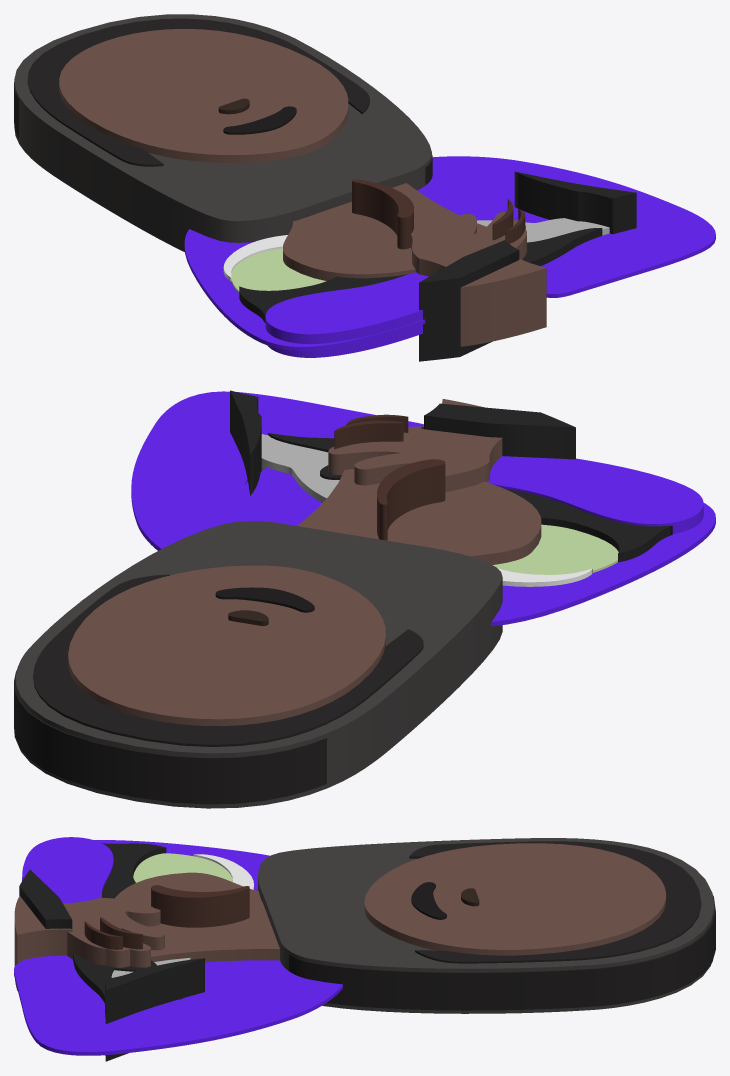
Rendered from emoji_u1f931_1f3ff.glb.
3 views of the same model, one above another, from view 1: azimuth 30°, elevation 25°; view 2: azimuth 150°, elevation 25°; view 3: azimuth 270°, elevation 25° (orthographic). The views are drawn at different scales.
Visible parts, largest first — view 1: emoji_u1f931_1f3ff; view 2: emoji_u1f931_1f3ff; view 3: emoji_u1f931_1f3ff.
Part boxes in pixels (box(x1,y1,x2,y2)): emoji_u1f931_1f3ff: box(14, 14, 715, 361); emoji_u1f931_1f3ff: box(14, 390, 715, 808); emoji_u1f931_1f3ff: box(14, 837, 715, 1061).
Size of the model in its own units: 0.0242 by 0.0046 by 0.0339.
